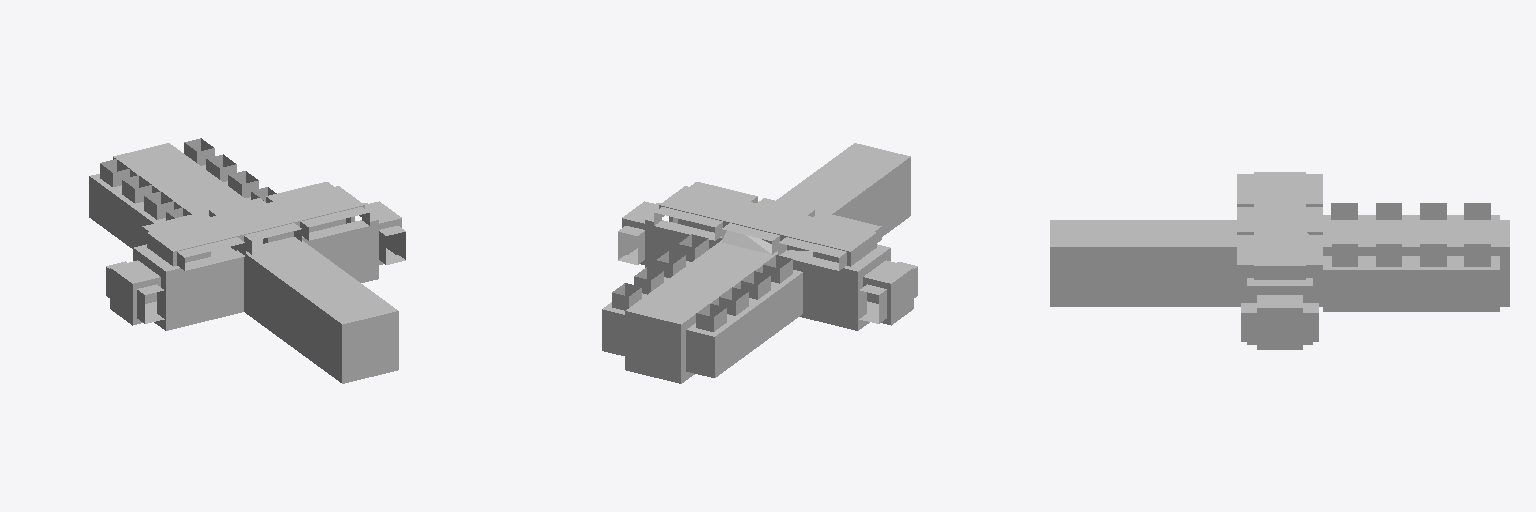
File: BAKE.obj
The picture shows the model from 3 angles: view 1: azimuth 30°, elevation 25°; view 2: azimuth 150°, elevation 25°; view 3: azimuth 270°, elevation 25°; orthographic projection.
Parts seen in each view (by area): view 1: stanza; view 2: stanza; view 3: stanza.
Boxes of the visible parts, <box> form: stanza: <box>89,138,405,383</box>; stanza: <box>602,143,917,383</box>; stanza: <box>1050,172,1509,349</box>.
Size of the model in its own units: 399 by 105 by 588.